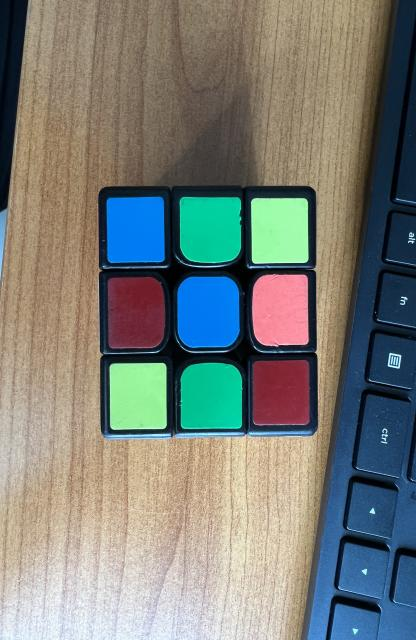Blue: (178, 276, 239, 348), (106, 196, 165, 262)
Green: (180, 196, 242, 264), (181, 362, 243, 429)
Orange: (252, 274, 309, 346)
Red: (107, 278, 166, 349), (252, 360, 310, 425)
Yellow: (109, 362, 167, 430), (251, 198, 309, 264)
